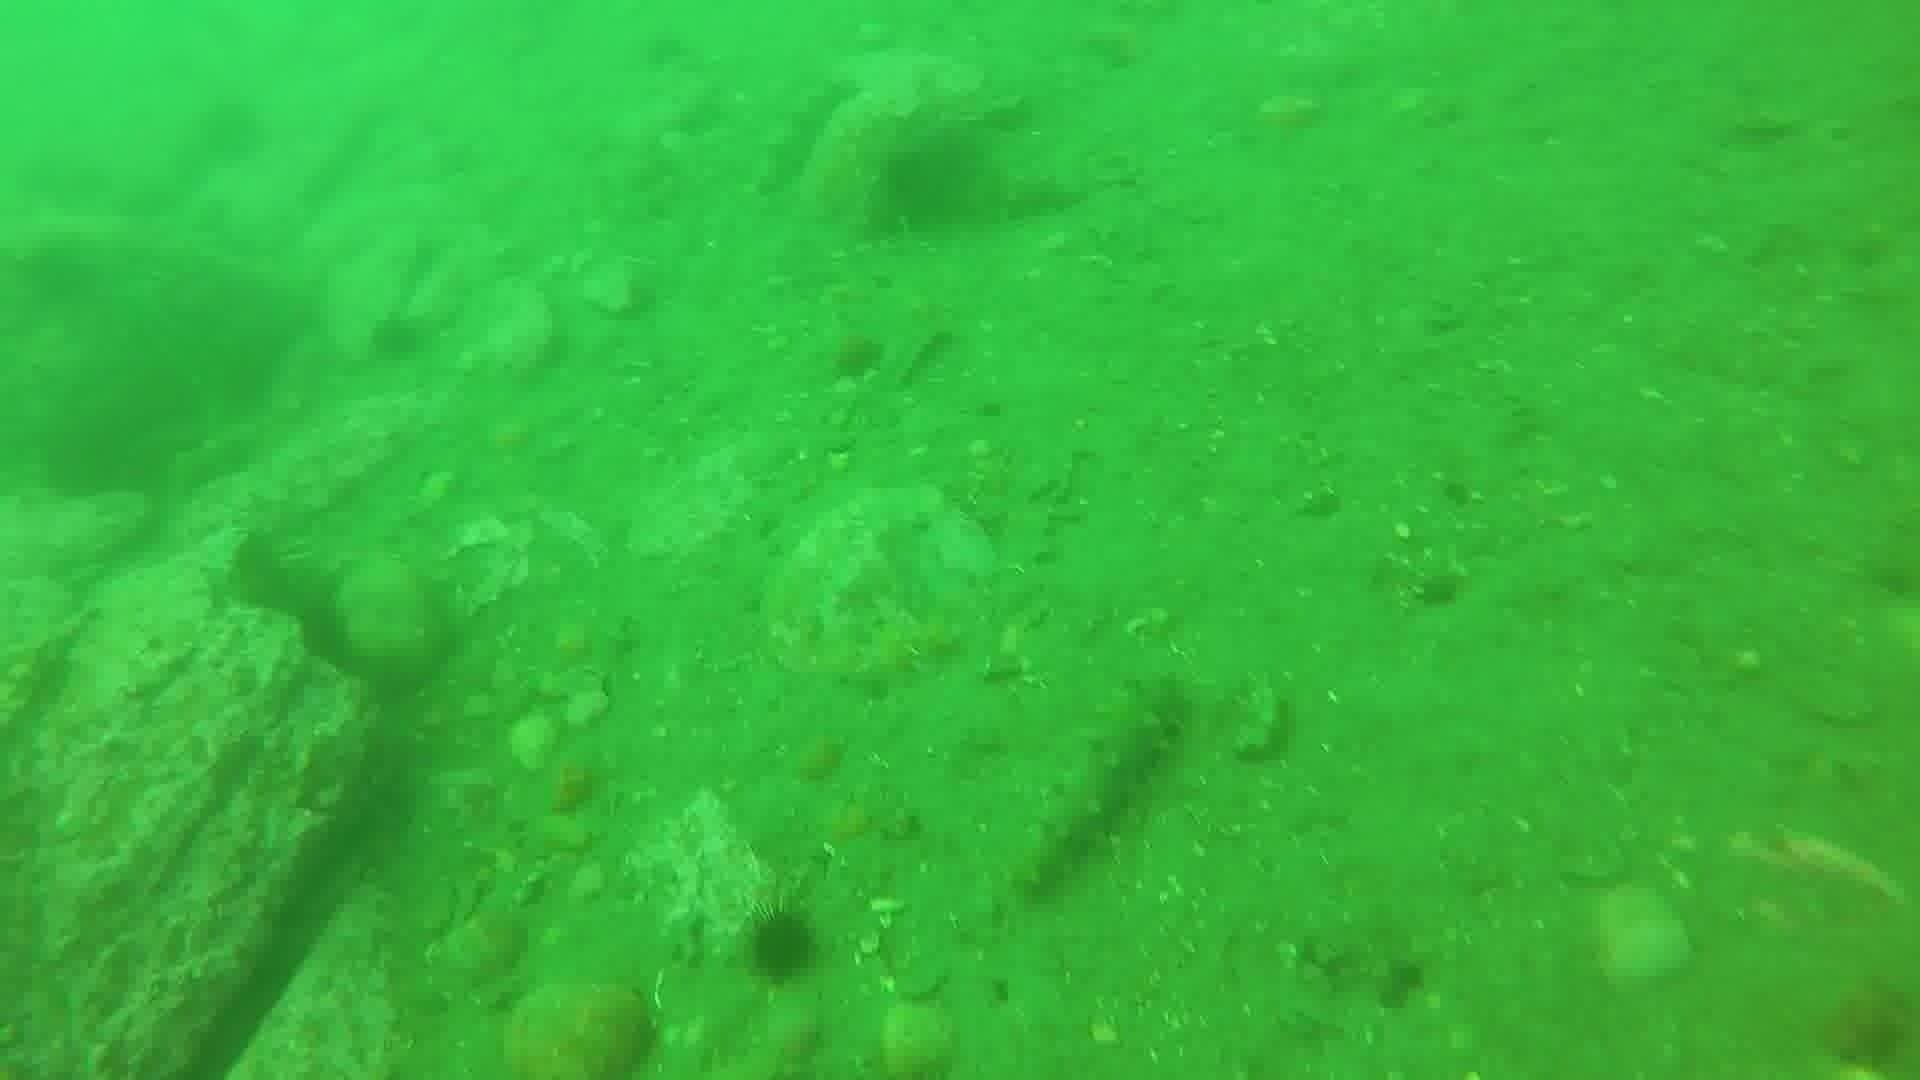echinus: (738, 902, 825, 989), (820, 330, 889, 392), (364, 309, 433, 369), (638, 30, 707, 91), (199, 98, 268, 158)
holothurian: (1005, 673, 1191, 898), (844, 603, 964, 700)
